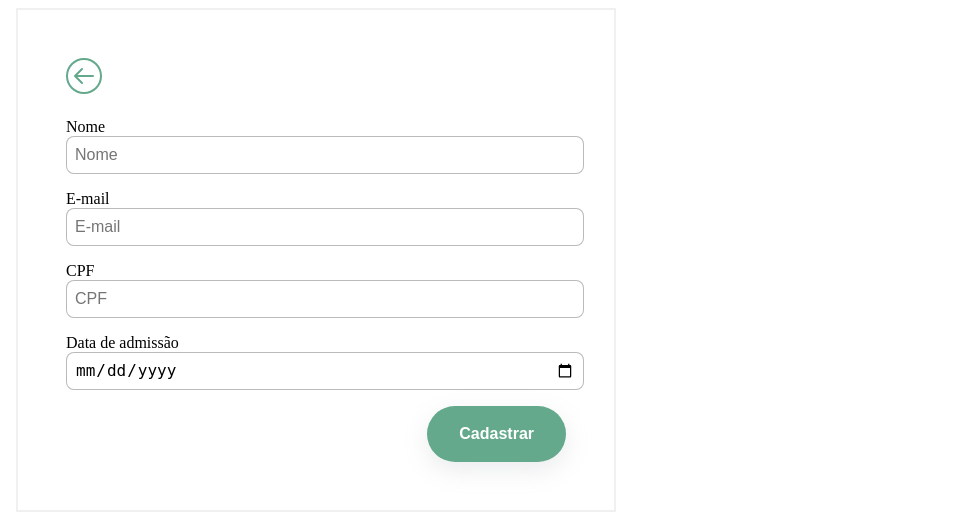
Scenario: NewUserPage › should display error notification on form submission failure
In the field labelled "Nome": (325, 155) [66,136,584,174], type "John Doe"
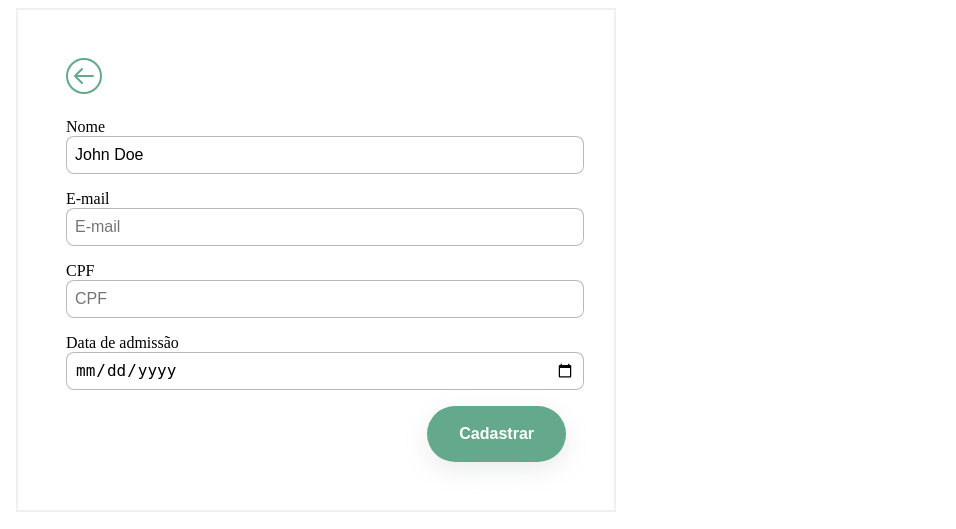
In the field labelled "E-mail": (325, 227) [66,208,584,246], type "john.doe@example.com"
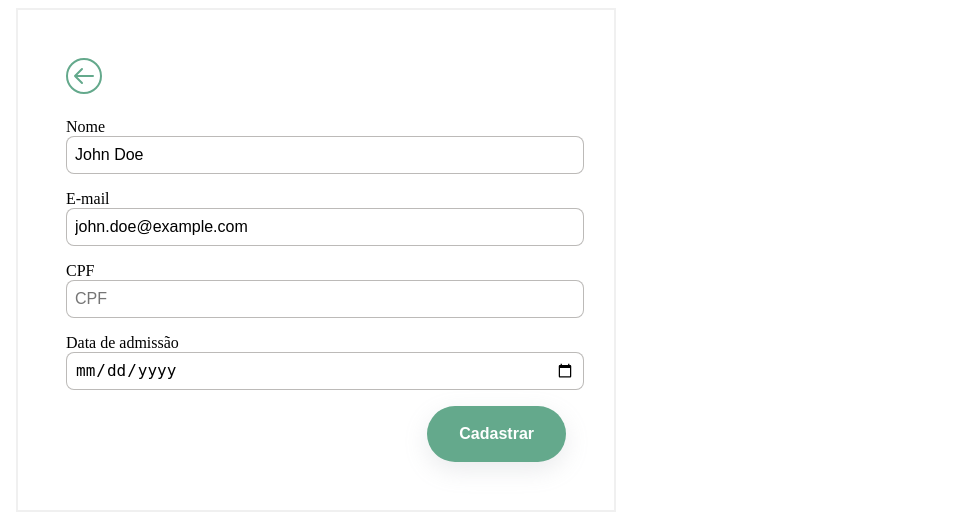
In the field labelled "CPF": (325, 299) [66,280,584,318], type "785.022.700-01"
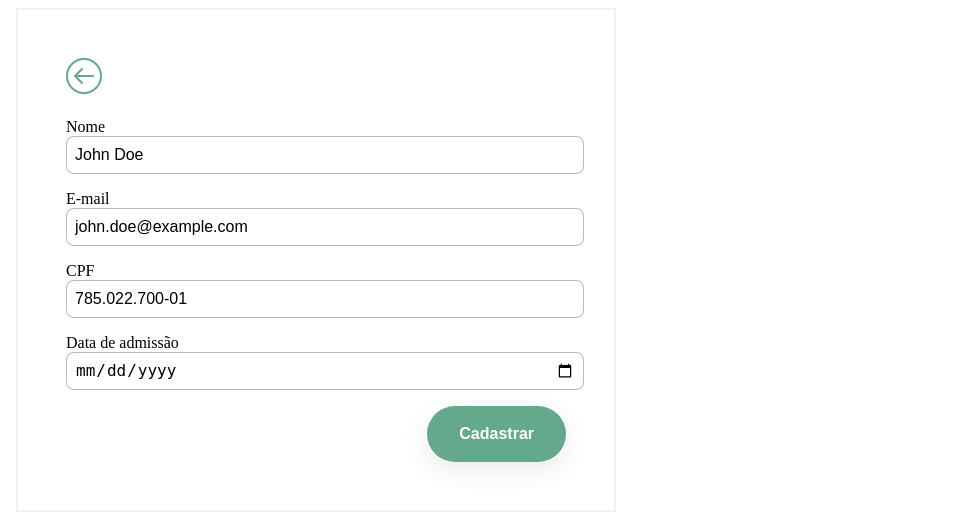
In the date field labelled "Data de admissão": (325, 371) [66,352,584,390], type "2023-10-22"
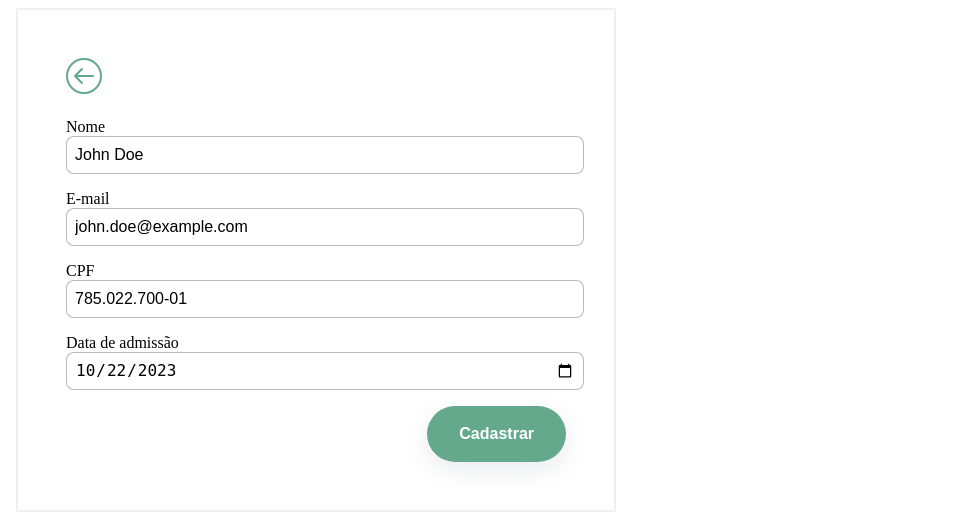
Click the button "Cadastrar": (497, 434) [427,406,566,462]
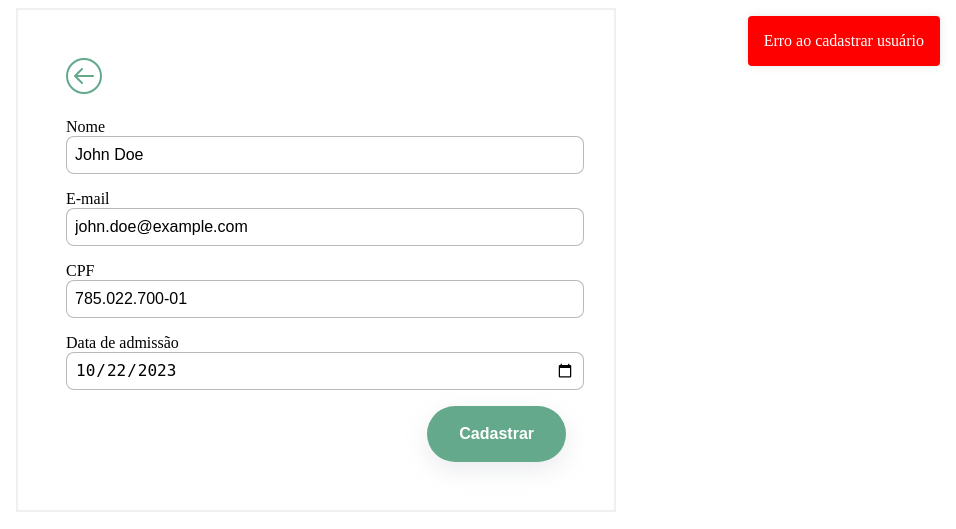
Result: the text "Erro ao cadastrar usuário" is shown at [748,16,940,66]
